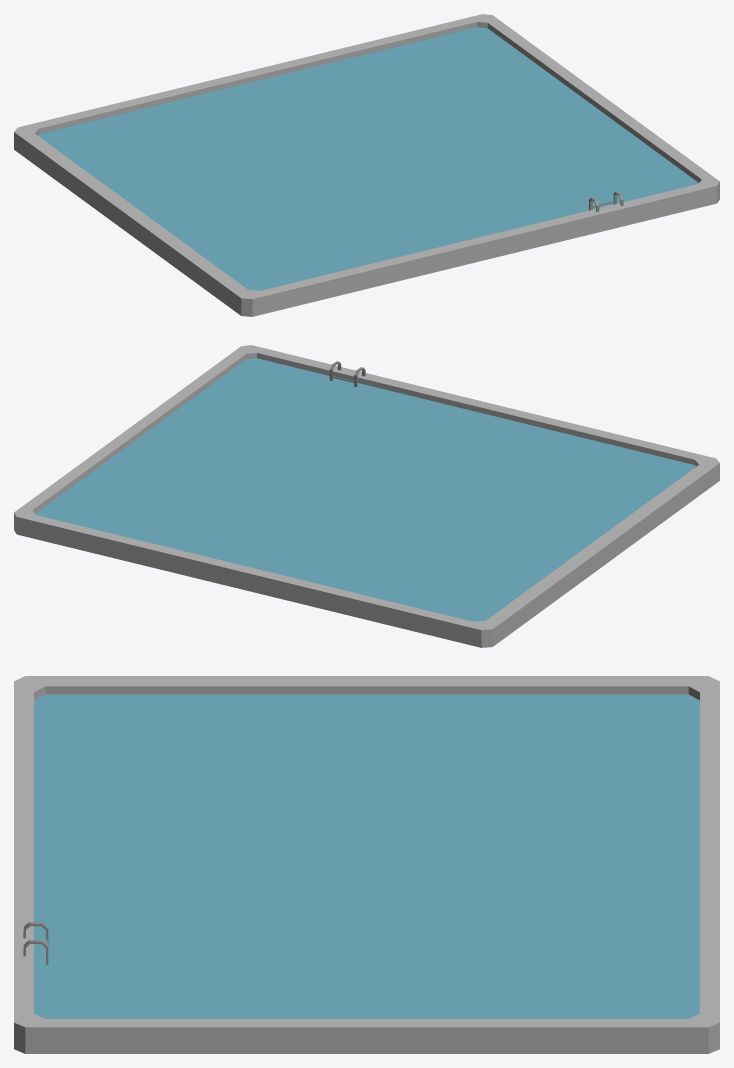
File: Pool_05.fbx
The picture shows the model from 3 angles, top to bottom: view 1: azimuth 30°, elevation 25°; view 2: azimuth 150°, elevation 25°; view 3: azimuth 270°, elevation 25°; orthographic projection. The views are drawn at different scales.
Parts seen in each view (by area): view 1: Pool_05; view 2: Pool_05; view 3: Pool_05.
Part boxes in pixels (box(x1,y1,x2,y2)): Pool_05: box(14, 14, 719, 316); Pool_05: box(14, 345, 719, 647); Pool_05: box(14, 676, 719, 1053).
Bounding box in the file's own units: 986 × 53.83 × 837.
